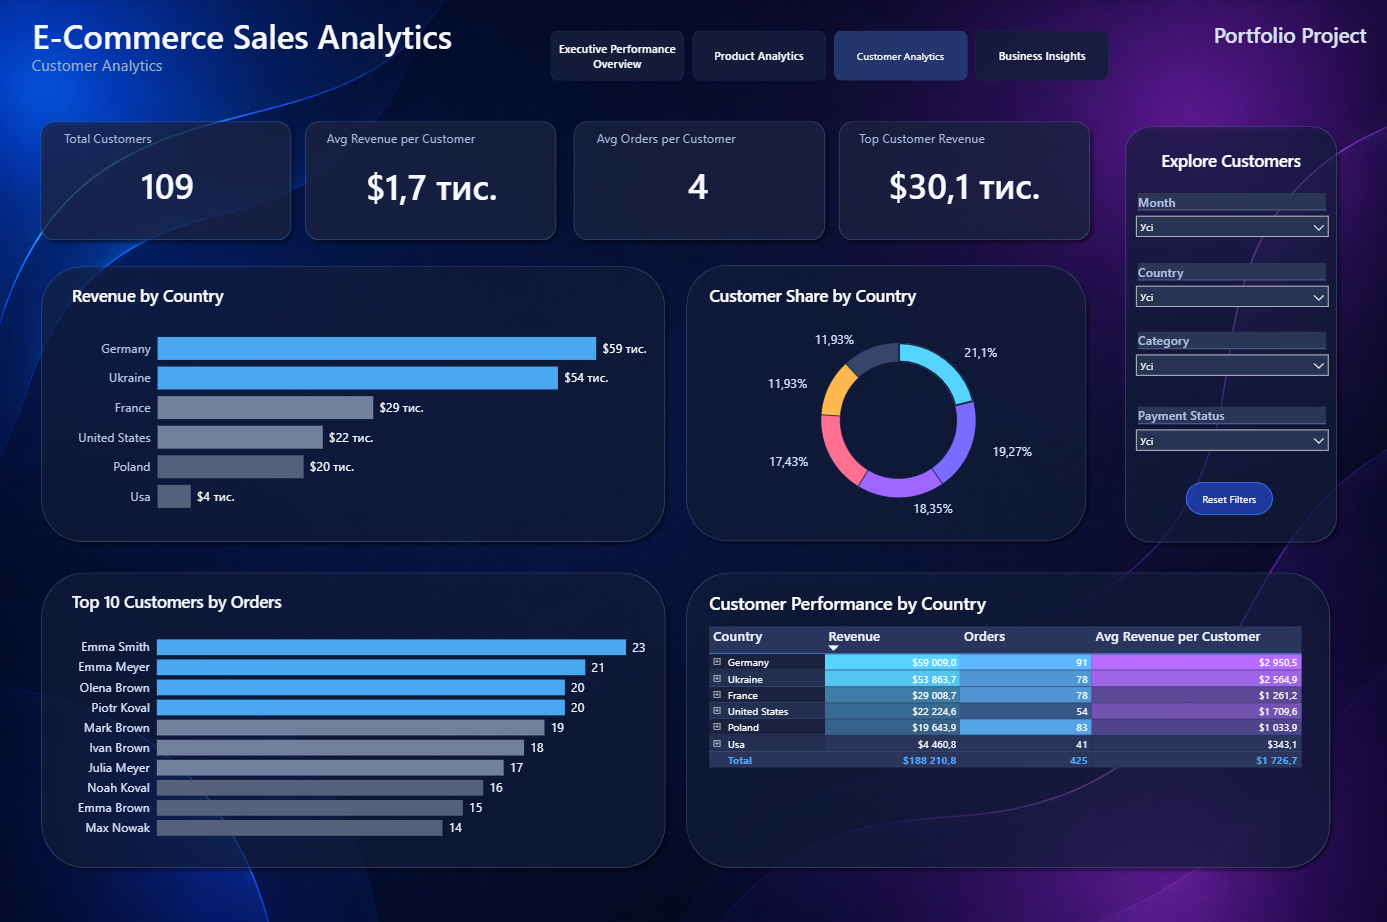

Layout of this report page (visuals, bound fields, positions):
{"tool":"powerbi","page":{"name":"Customer Analytics","canvas":[1800,1200],"ordinal":2},"visuals":[{"type":"shape","box":[735.2,150,342.9,171.7],"z":0,"group":"g2"},{"type":"group","id":"g1","title":"Група 5","box":[47.1,337.1,824.3,374.3],"z":0},{"type":"shape","box":[46.2,733.8,825,400],"z":0,"group":"g3"},{"type":"shape","box":[21.7,10,946,76],"z":1000},{"type":"shape","box":[388.6,150,342.9,171.7],"z":1000,"group":"g2"},{"type":"shape","box":[880,734,850.2,400],"z":1000,"group":"g4"},{"type":"shape","box":[21.7,56.7,323.3,60],"z":2000},{"type":"group","id":"g2","title":"Група 1","box":[46,150,1374,172],"z":2000,"group":"g6"},{"type":"shape","box":[46,150,342.9,171.7],"z":2000,"group":"g2"},{"type":"shape","box":[1448,156,292,556],"z":2000,"group":"g5"},{"type":"shape","box":[47.1,337.1,824.3,374.3],"z":2000,"group":"g1"},{"type":"shape","box":[1493.3,23.3,278.3,50],"z":3000},{"type":"shape","box":[1077.8,150,342.9,171.7],"z":3000,"group":"g2"},{"type":"cardVisual","fields":{"Data":["_Measures.Total Customers"]},"box":[57.4,152.6,325.8,134.6],"z":4000,"group":"g6"},{"type":"shape","box":[880,336.7,535,375],"z":4000},{"type":"group","id":"g3","title":"Група 9","box":[46.2,733.8,825,400],"z":5000},{"type":"group","id":"g4","title":"Група 7","box":[880,734,850.2,400],"z":6000},{"type":"group","id":"g5","title":"Група 2","box":[1448,156,292,556],"z":7000},{"type":"group","id":"g6","title":"Група 3","box":[46,150,1374,172],"z":8000},{"type":"clusteredBarChart","title":"Revenue by Country","fields":{"Y":["_Measures.Total Revenue"],"Category":["customers.country"]},"box":[90.5,370,752.8,310.2],"z":9000},{"type":"slicer","fields":{"Values":["Calendar.Month"]},"box":[1460.5,246.3,269.1,76.9],"z":10000,"group":"g5"},{"type":"donutChart","title":"Customer Share by Country ","fields":{"Category":["customers.country"],"Y":["_Measures.Total Customers"]},"box":[914.4,370,499.2,311.8],"z":10000},{"type":"slicer","fields":{"Values":["customers.country"]},"box":[1460.5,337.1,269.1,79.7],"z":11000,"group":"g5"},{"type":"clusteredBarChart","title":"Top 10 Customers by Orders","fields":{"Y":["_Measures.Total Orders"],"Category":["customers.customer_name"]},"box":[90.5,765.8,752.8,332.8],"z":11000},{"type":"cardVisual","fields":{"Data":["_Measures.Top Customer Revenue"]},"box":[1084.2,151.6,330.4,136.7],"z":12000,"group":"g6"},{"type":"pivotTable","title":"Customer Performance by Country","fields":{"Rows":["customers.country","customers.customer_name"],"Values":["_Measures.Total Revenue","_Measures.Total Orders","_Measures.Average Revenue per Customer"]},"box":[914.4,765.8,775.4,336],"z":12000},{"type":"pageNavigator","box":[714,42,725.7,65.7],"z":13000},{"type":"cardVisual","fields":{"Data":["_Measures.Average Revenue per Customer"]},"box":[396.4,155.2,329.1,132.4],"z":13000,"group":"g6"},{"type":"slicer","fields":{"Values":["products.category"]},"box":[1460.5,426.1,269.1,77.9],"z":13000,"group":"g5"},{"type":"cardVisual","fields":{"Data":["_Measures.Average Orders per Customer"]},"box":[745.9,153,320.5,133.4],"z":15000,"group":"g6"},{"type":"slicer","fields":{"Values":["orders.payment_status"]},"box":[1460.5,522.5,269.1,77.9],"z":16000,"group":"g5"},{"type":"actionButton","box":[1529.2,617.2,126.2,56.2],"z":19000,"group":"g5"}]}

Visuals, with their boxes in screenshot pixels (x1, y1, x2, y2), scaled from the page's 1800x1200 canvas onto the 1387x922 screenshot:
shape: rect(567, 115, 831, 247)
"Група 5" group: rect(36, 259, 671, 547)
shape: rect(36, 564, 671, 871)
shape: rect(17, 8, 746, 66)
shape: rect(299, 115, 564, 247)
shape: rect(678, 564, 1333, 871)
shape: rect(17, 44, 266, 90)
"Група 1" group: rect(35, 115, 1094, 247)
shape: rect(35, 115, 300, 247)
shape: rect(1116, 120, 1341, 547)
shape: rect(36, 259, 671, 547)
shape: rect(1151, 18, 1365, 56)
shape: rect(831, 115, 1095, 247)
cardVisual - _Measures.Total Customers: rect(44, 117, 295, 221)
shape: rect(678, 259, 1090, 547)
"Група 9" group: rect(36, 564, 671, 871)
"Група 7" group: rect(678, 564, 1333, 871)
"Група 2" group: rect(1116, 120, 1341, 547)
"Група 3" group: rect(35, 115, 1094, 247)
"Revenue by Country" clusteredBarChart: rect(70, 284, 650, 523)
slicer - Calendar.Month: rect(1125, 189, 1333, 248)
"Customer Share by Country " donutChart: rect(705, 284, 1089, 524)
slicer - customers.country: rect(1125, 259, 1333, 320)
"Top 10 Customers by Orders" clusteredBarChart: rect(70, 588, 650, 844)
cardVisual - _Measures.Top Customer Revenue: rect(835, 116, 1090, 222)
"Customer Performance by Country" pivotTable: rect(705, 588, 1302, 847)
pageNavigator: rect(550, 32, 1109, 83)
cardVisual - _Measures.Average Revenue per Customer: rect(305, 119, 559, 221)
slicer - products.category: rect(1125, 327, 1333, 387)
cardVisual - _Measures.Average Orders per Customer: rect(575, 118, 822, 220)
slicer - orders.payment_status: rect(1125, 401, 1333, 461)
actionButton: rect(1178, 474, 1276, 517)
